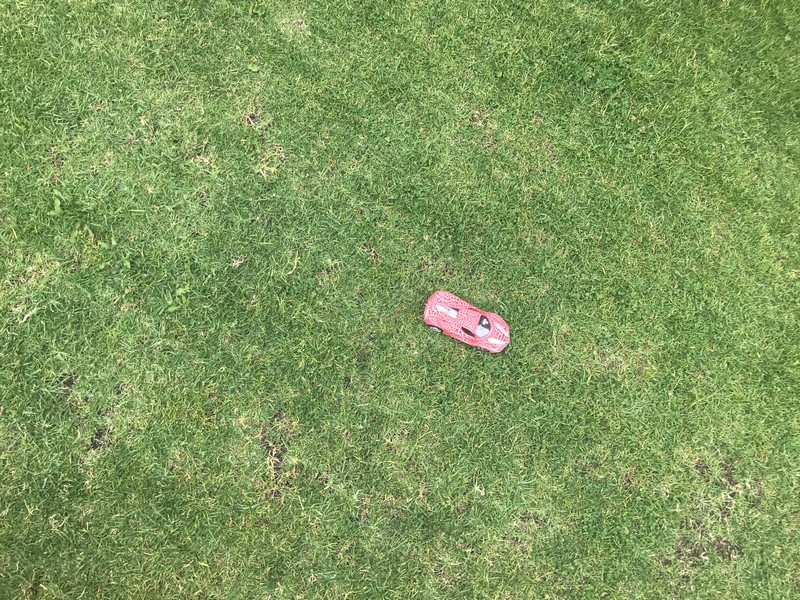RC: (421, 288, 512, 354)
